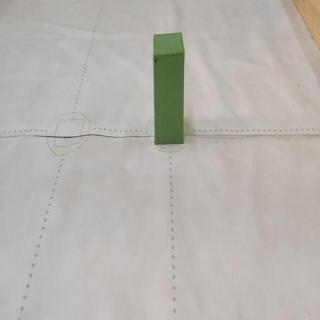greenbox: (153, 32, 184, 144)
